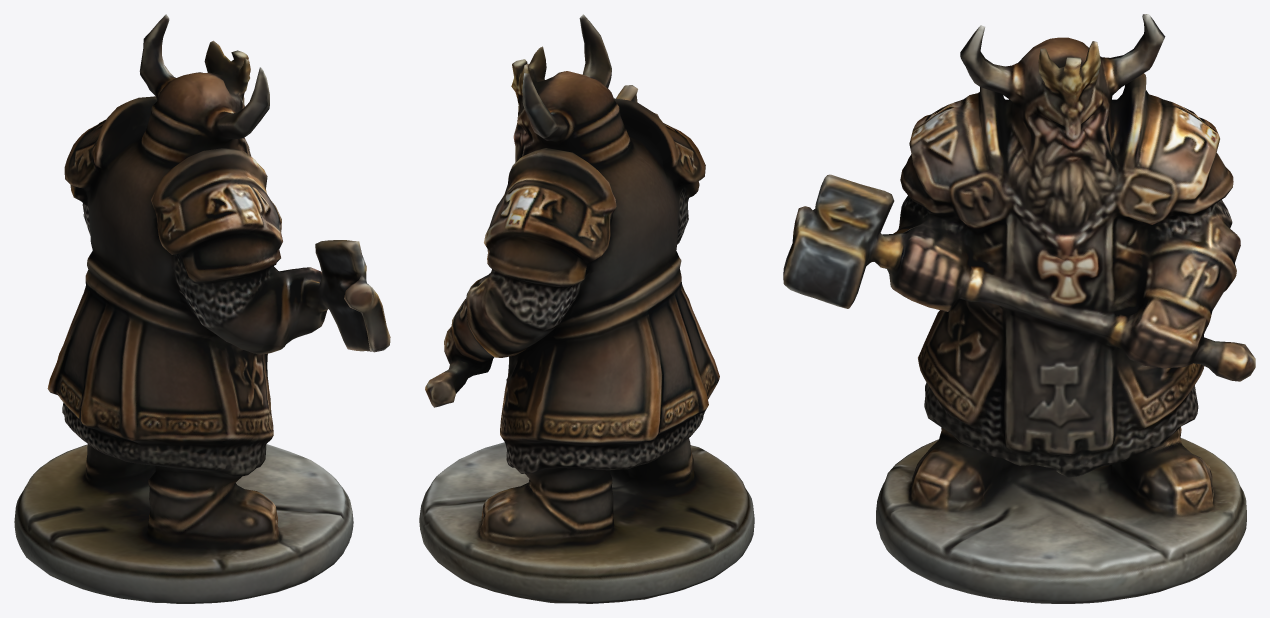
File: thorgrim.glb
The picture shows the model from 3 angles, left to right: view 1: azimuth 30°, elevation 25°; view 2: azimuth 150°, elevation 25°; view 3: azimuth 270°, elevation 25°; orthographic projection. The views are drawn at different scales.
Visible parts, largest first — view 1: lagrange_node; view 2: lagrange_node; view 3: lagrange_node.
Part boxes in pixels (box(x1,y1,x2,y2)): lagrange_node: box(14, 14, 390, 603); lagrange_node: box(419, 14, 754, 603); lagrange_node: box(783, 14, 1255, 603).
Bounding box in the file's own units: 1.25 × 2 × 1.62.
1 material, 1 textured.
